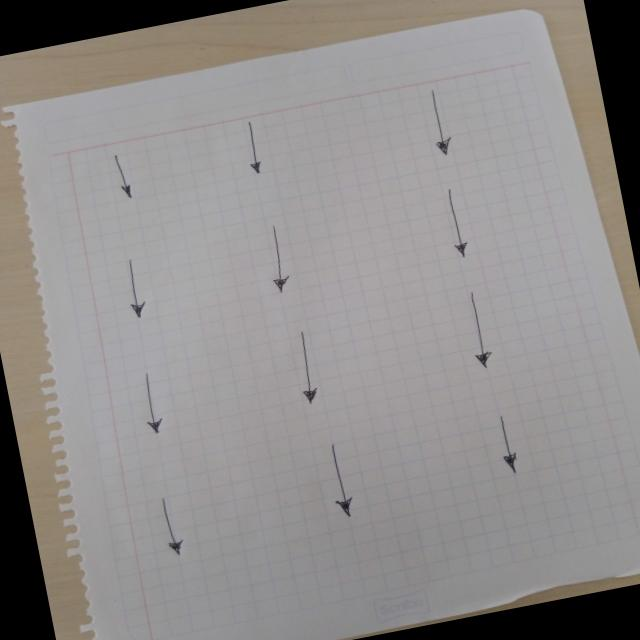arrow_line_down: (448, 288, 505, 372), (278, 328, 330, 409), (106, 251, 162, 323), (480, 406, 530, 480), (435, 187, 485, 260), (252, 224, 302, 295), (132, 370, 178, 440), (322, 439, 360, 521), (420, 86, 459, 161), (152, 491, 190, 558), (236, 118, 271, 178), (108, 154, 144, 202)
